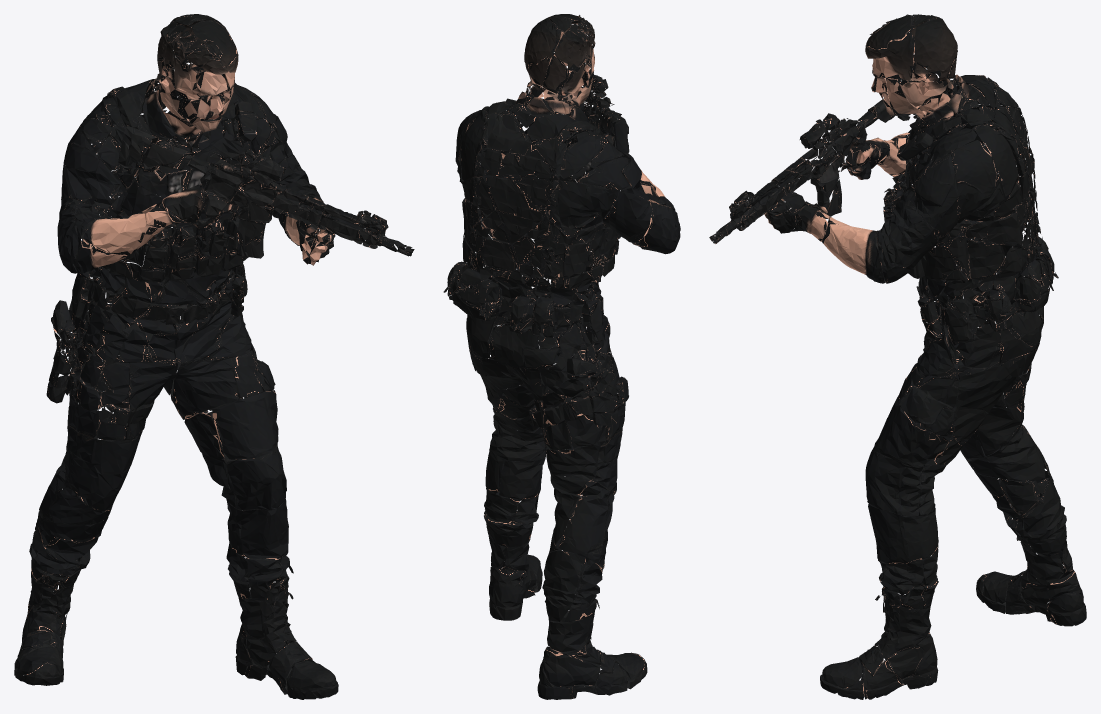
Rendered from gov_security.glb.
3 renders of one model, left to right at view 1: azimuth 30°, elevation 25°; view 2: azimuth 150°, elevation 25°; view 3: azimuth 270°, elevation 25°, orthographic. The views are drawn at different scales.
Parts seen in each view (by area): view 1: geometry_0; view 2: geometry_0; view 3: geometry_0.
Boxes of the visible parts, x1=… form: geometry_0: x1=14, y1=14, x2=414, y2=699; geometry_0: x1=443, y1=14, x2=680, y2=699; geometry_0: x1=709, y1=14, x2=1086, y2=699.
Bounding box in the file's own units: 0.7208 × 1.9 × 1.02.
1 material, 1 textured.
